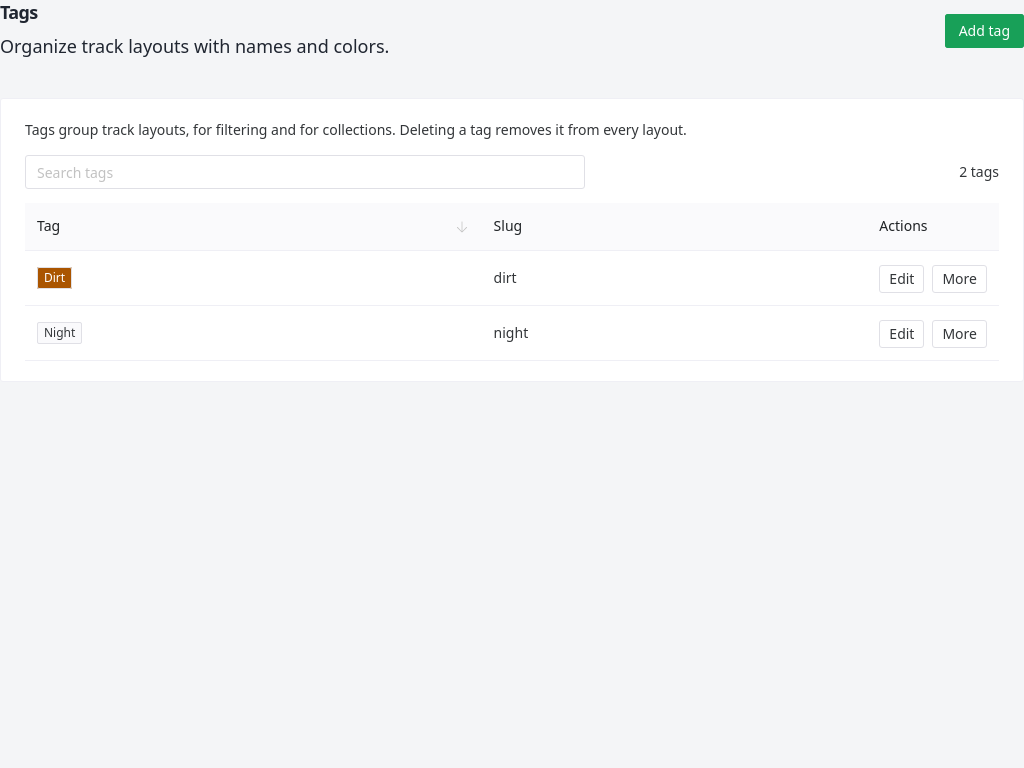
Scenario: TagsView › shows a taken slug under the slug field
Click the button "Add tag" at (984, 31), box [945,14,1023,48]
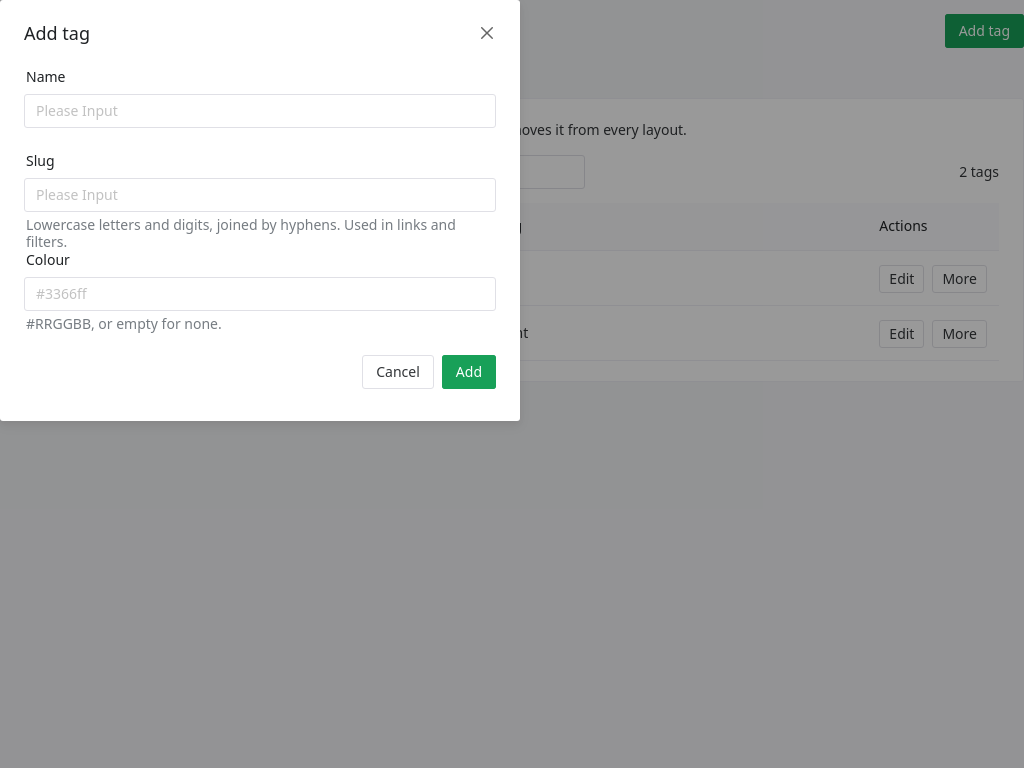
Type "Dirt" into the field named "Name" at (260, 111), box [36,94,484,128]
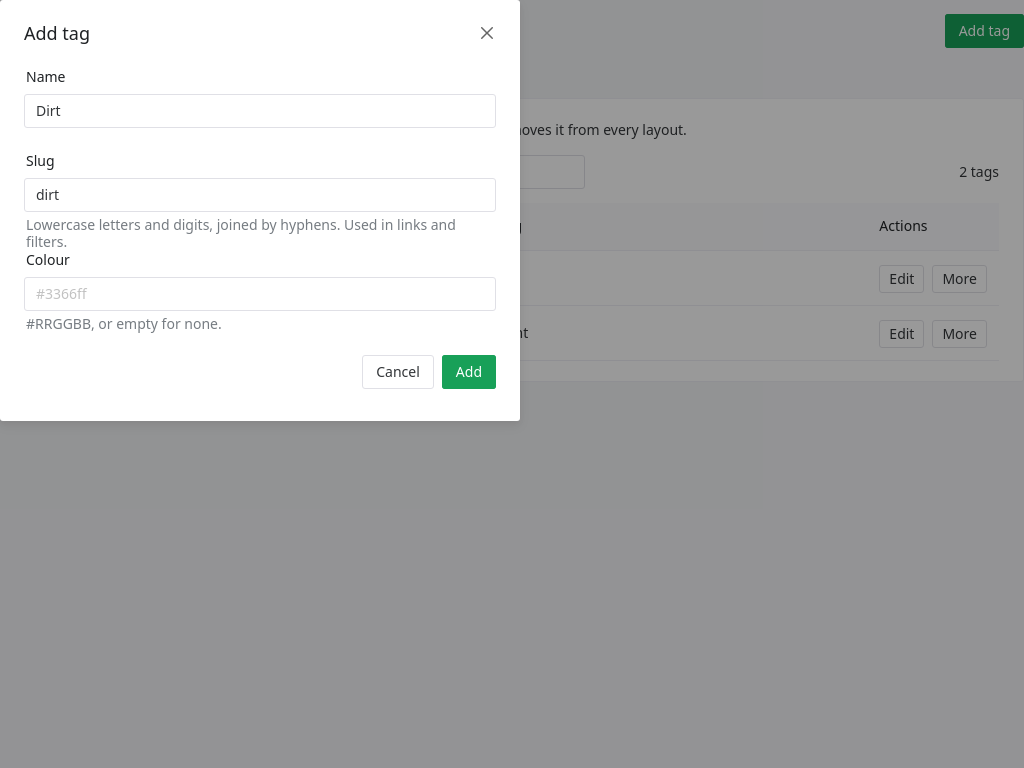
Click the button "Add" at (469, 372), box [442,355,496,389]
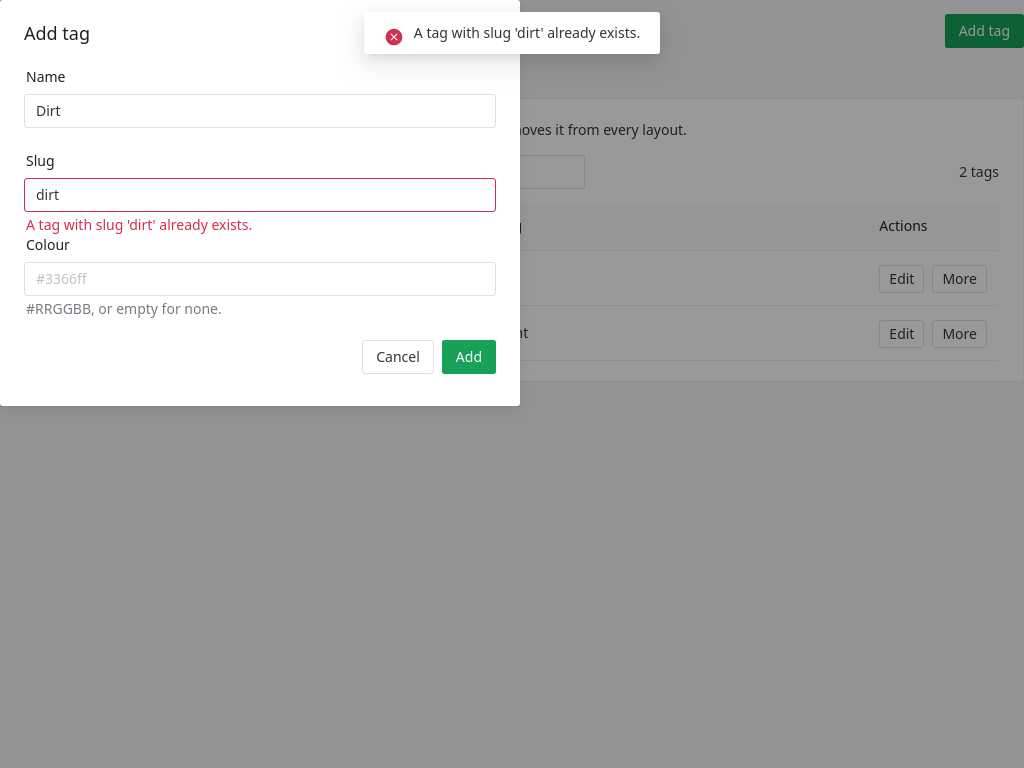
Result: the dialog named "Add tag" is shown at [0,0,520,406]
Result: the text "A tag with slug 'dirt' already exists." is shown at [26,215,252,234]
Result: the 2nd text "A tag with slug 'dirt' already exists." is shown at [26,215,252,234]
